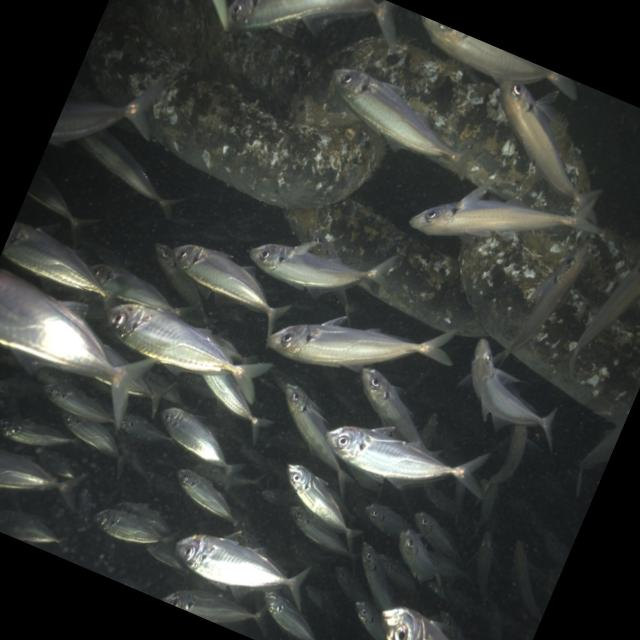ChainLink: (86, 2, 383, 208), (290, 36, 576, 213), (284, 197, 485, 336), (514, 235, 640, 422), (136, 0, 312, 117), (458, 226, 587, 348)
